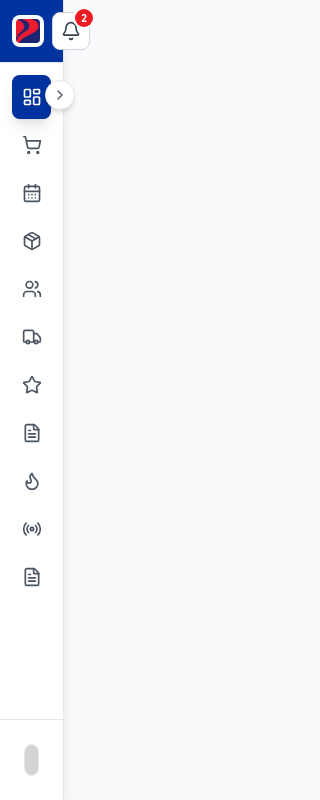
Layout sidebar responsiveness › keeps desktop collapse controls and compact elements available when collapsed
Expected: the button named "Open notifications" is shown, x1=52 y1=12 x2=90 y2=50
Expected: the button named "Open profile menu for Admin User" is shown, x1=16 y1=736 x2=47 y2=784
What coordinates should you click on to do the following:
click the button named "expand sidebar"
I would click on:
 (60, 95)
Its box is x1=45 y1=80 x2=75 y2=110.
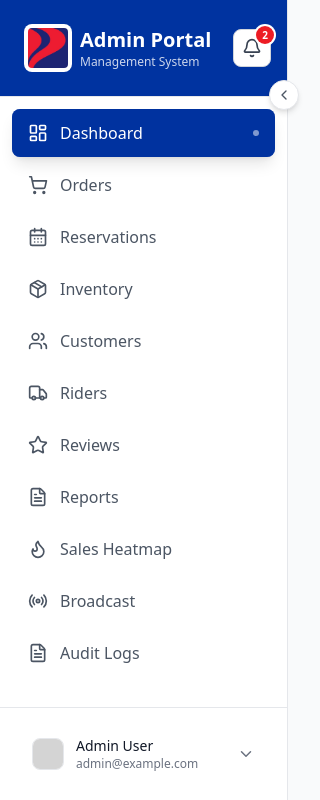
Now the button named "collapse sidebar" is shown, box x1=269 y1=80 x2=299 y2=110
Now the button titled "Dashboard" is gone
